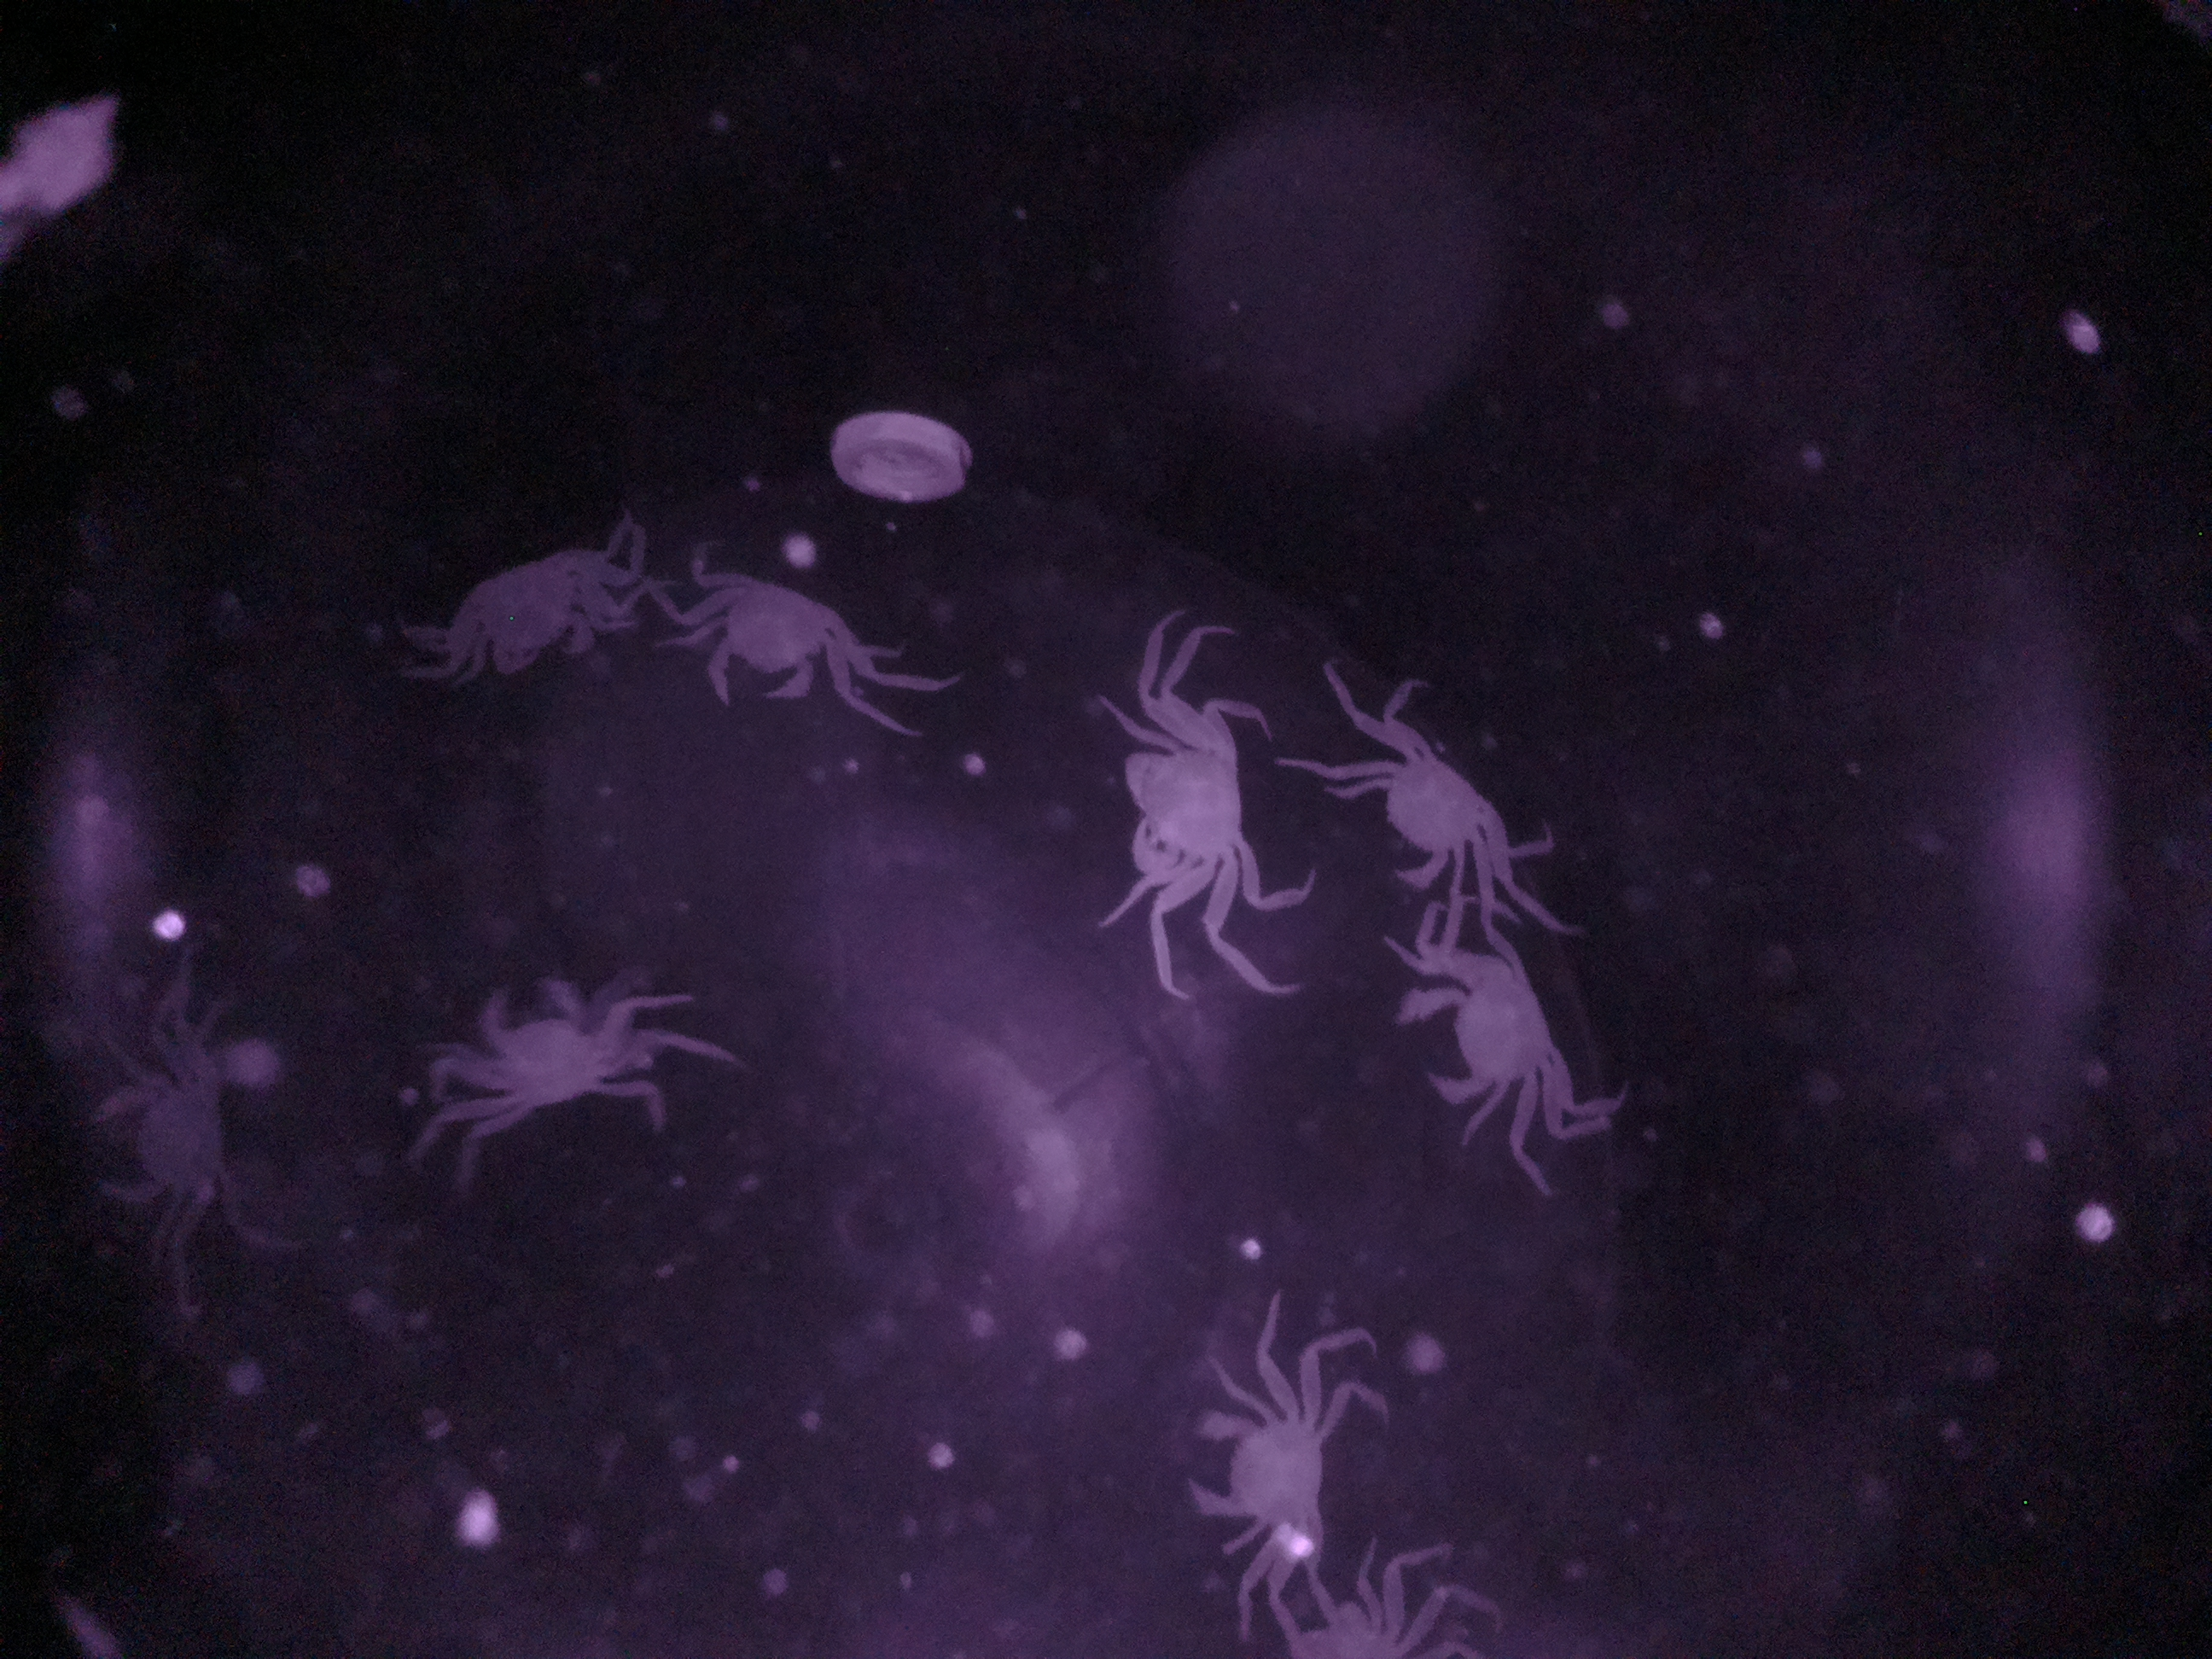Crab: (1374, 911, 1590, 1162), (1094, 683, 1289, 929), (418, 971, 669, 1155), (671, 554, 900, 734), (1167, 1352, 1352, 1575), (1341, 695, 1529, 897)
